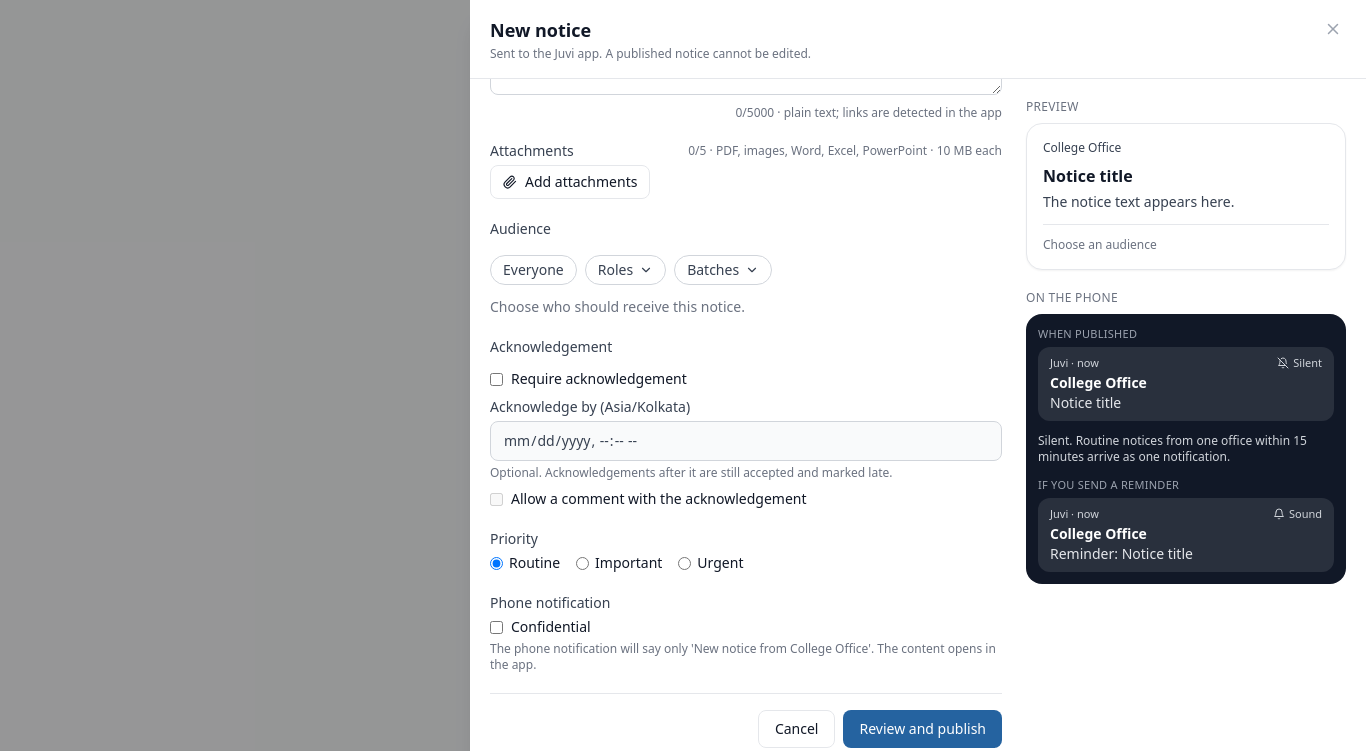
Test: NoticeComposer › refuses to review an incomplete notice
The image size is (1366, 751).
(page scrolled)
Click the button "Review and publish".
click(923, 729)  # box [844,710,1002,748]
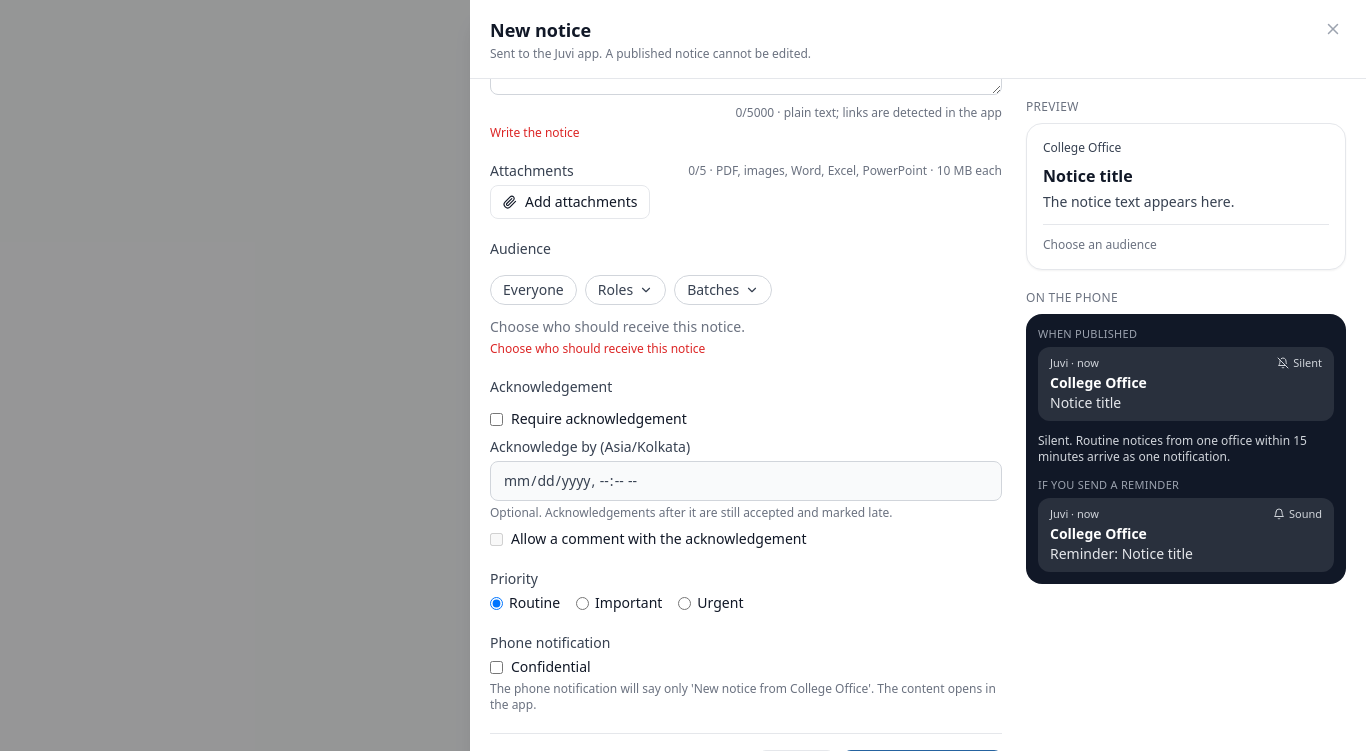
Now the text "Write the notice" is shown, box [490,124,580,141]
Now the text "Choose who should receive this notice" is shown, box [490,340,705,357]
